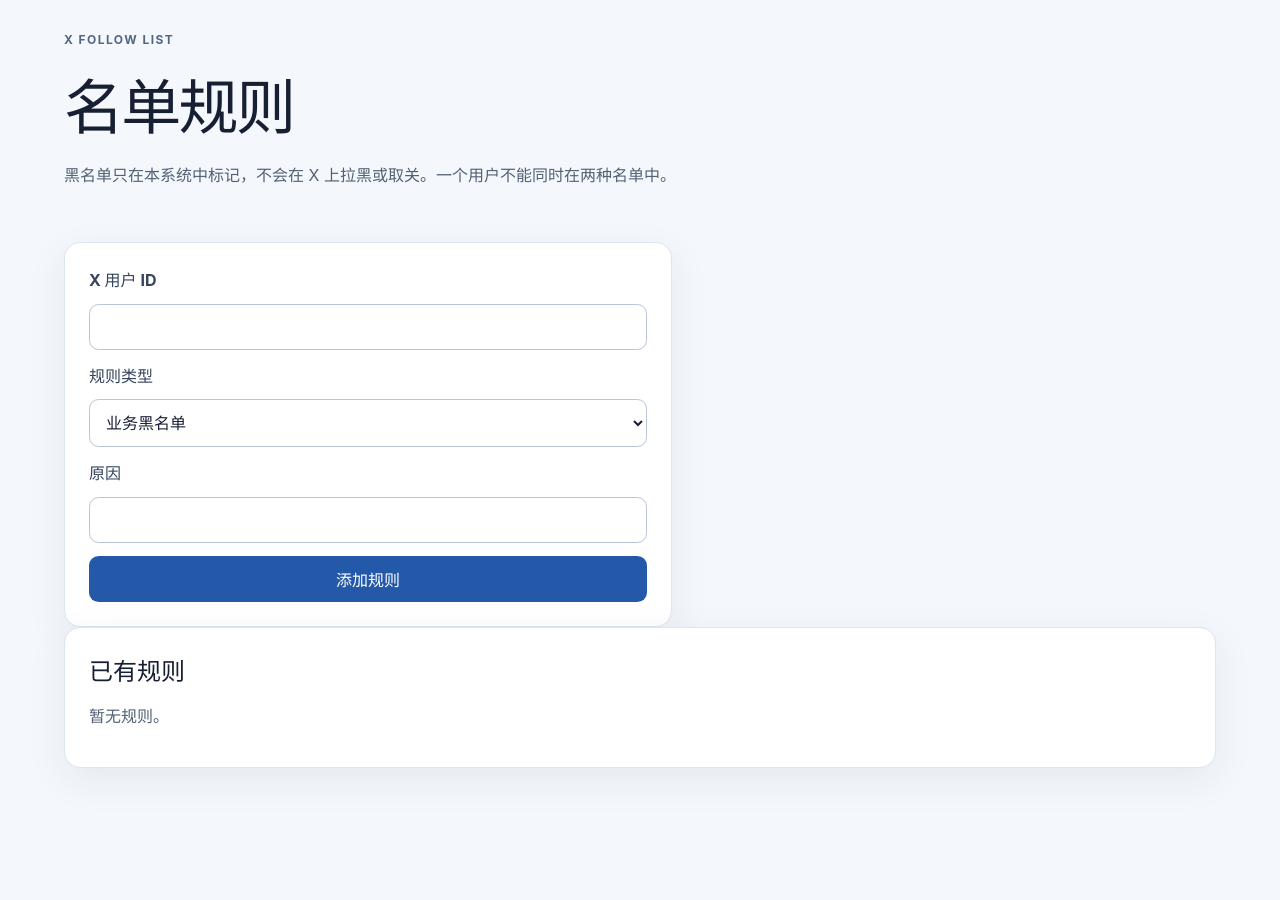
Test: business blocklist management › shows a conflict instead of replacing the opposite rule
The image size is (1280, 900).
Type "42" into the field labelled "X 用户 ID" at (368, 327), box [89, 304, 647, 350]
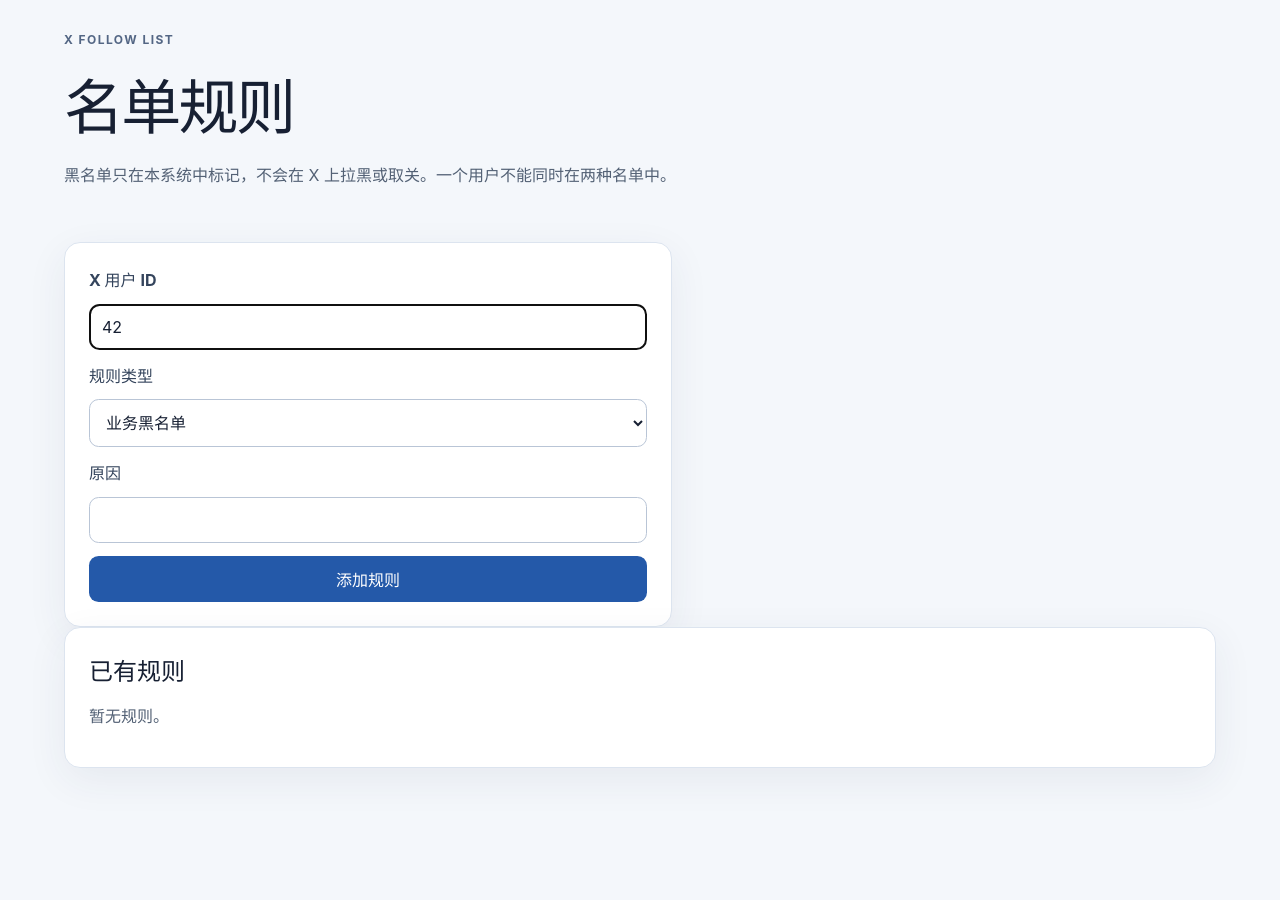
Type "Supplier risk" into the field labelled "原因" at (368, 520), box [89, 497, 647, 543]
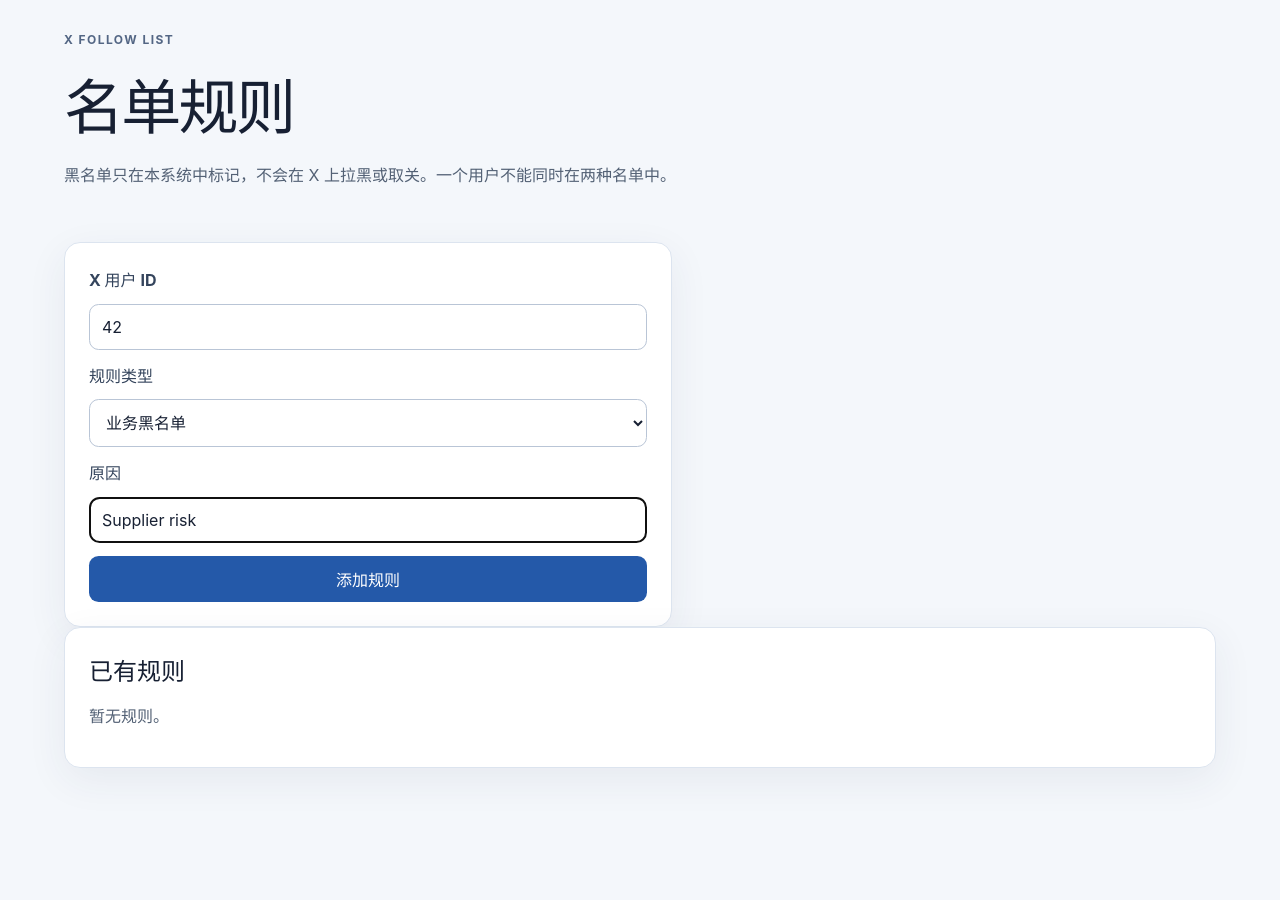
Click the button "添加规则" at (368, 579), box [89, 556, 647, 602]
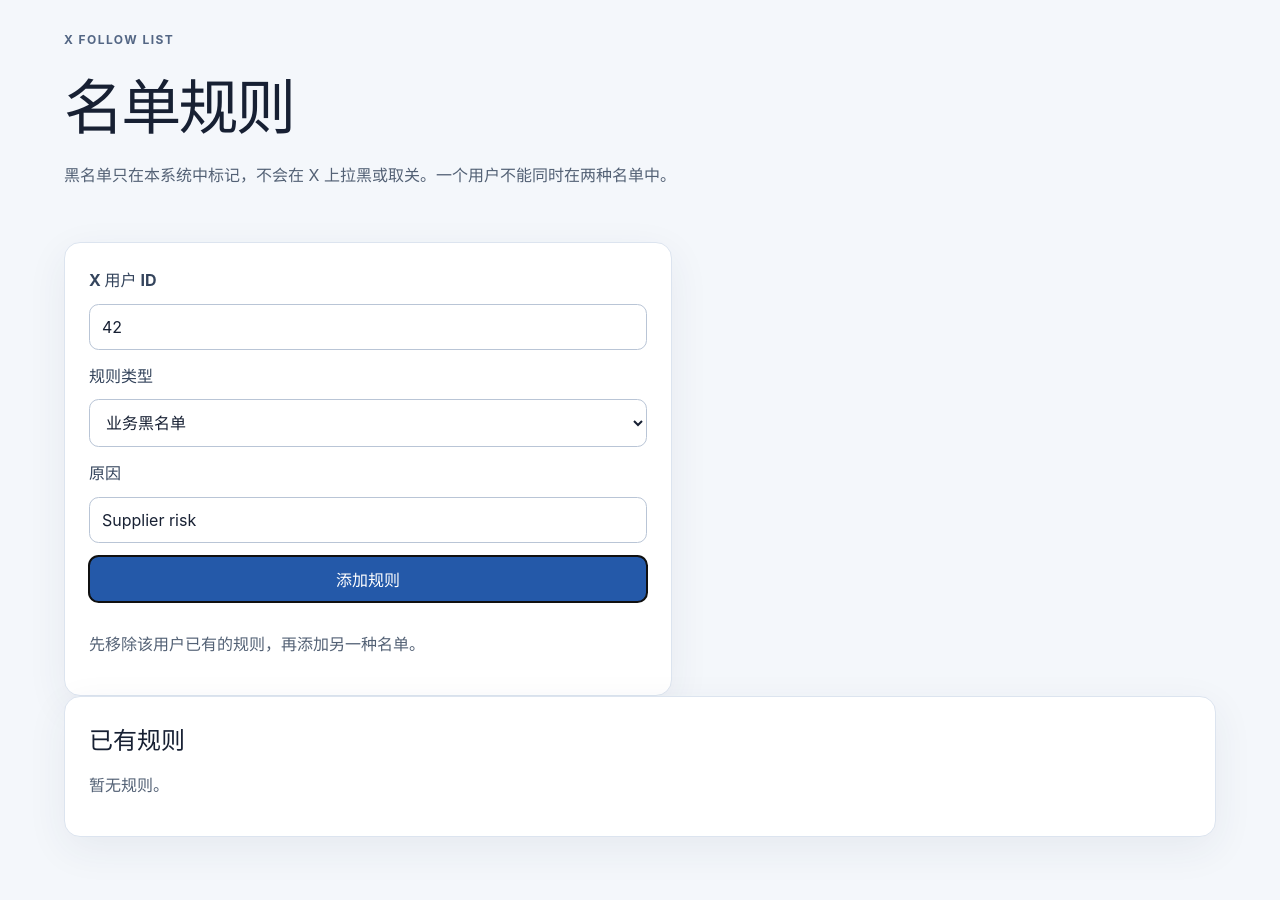
Expected: the message shows "先移除该用户已有的规则", [89, 634, 425, 654]
